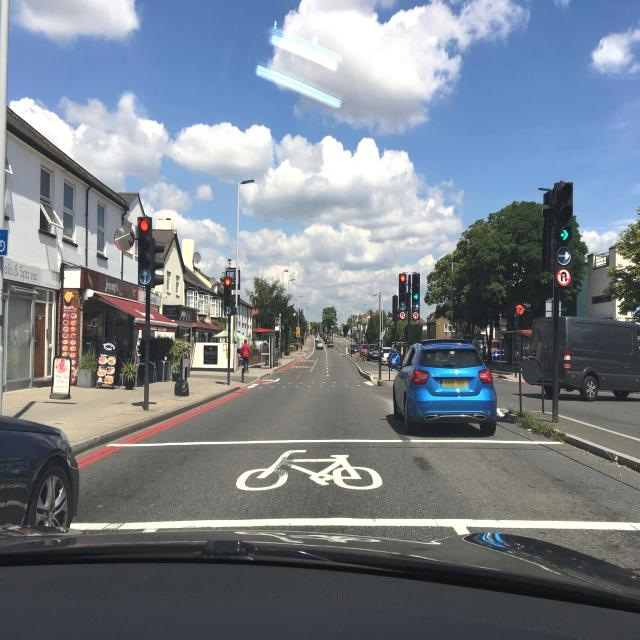car: (392, 338, 498, 436), (0, 405, 80, 530), (527, 315, 640, 401), (378, 346, 395, 364), (366, 343, 382, 362), (359, 343, 369, 357), (350, 342, 360, 354), (315, 340, 324, 350), (326, 339, 334, 348)
